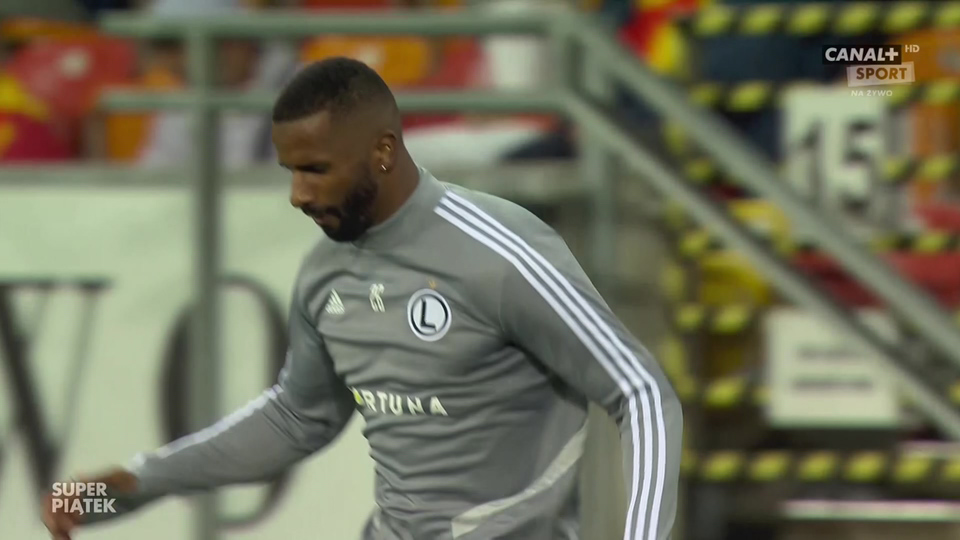Adidas: (320, 288, 346, 315)
